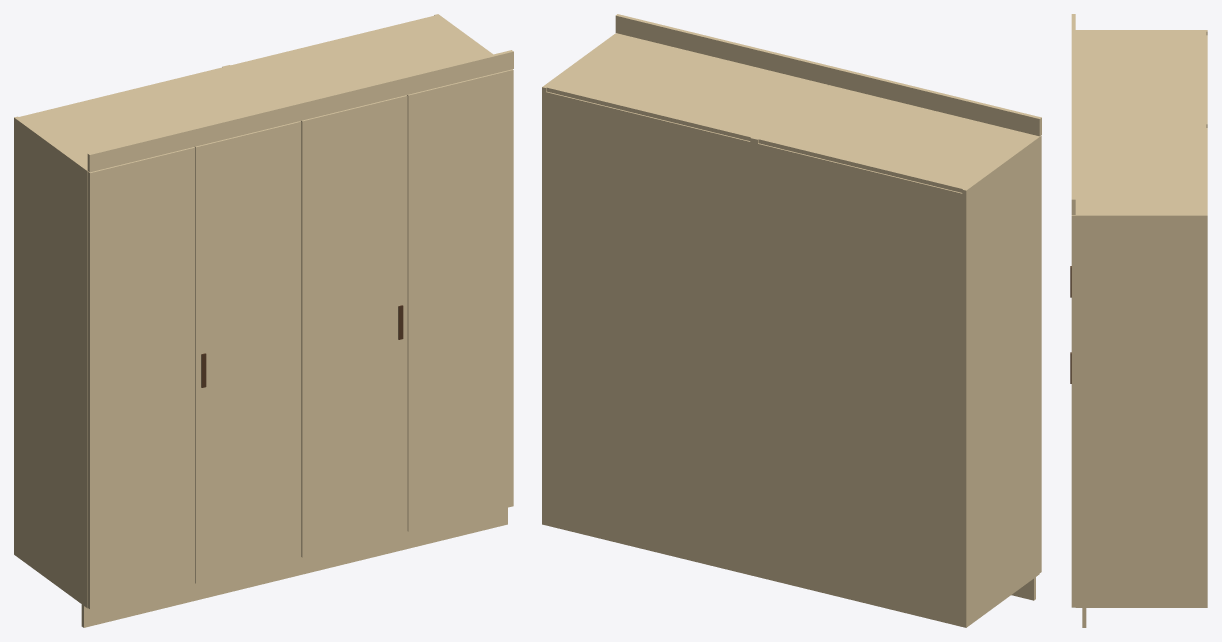
The model's file is birch-ply-wardrobe-chiswick.glb.
3 views of the same model, side by side, from view 1: azimuth 30°, elevation 25°; view 2: azimuth 150°, elevation 25°; view 3: azimuth 270°, elevation 25° (orthographic). The views are drawn at different scales.
Parts seen in each view (by area): view 1: Door 1 (hinged left), Door 4 (hinged right), Door 2 (hinged right), Door 3 (hinged left), Carcass left: Side left, Carcass left: Top, Carcass right: Top, Band over the doors, Plinth kick; view 2: Carcass left: Back, 6 mm, Carcass right: Back, 6 mm, Carcass left: Side left, Carcass left: Top, Carcass right: Top, Band over the doors, Carcass left: Side right, Carcass right: Side right, Carcass right: Side left, Door 1 (hinged left); view 3: Carcass right: Side right, Carcass right: Top, Carcass left: Top, Door 4 (hinged right), Band over the doors, Carcass right: Side left, Carcass left: Side left, Carcass left: Side right.
Boxes of the visible parts, x1,y1,x2,y2 form: Door 1 (hinged left): [88, 147, 195, 609]; Door 4 (hinged right): [407, 69, 513, 531]; Door 2 (hinged right): [195, 121, 301, 583]; Door 3 (hinged left): [301, 95, 407, 557]; Carcass left: Side left: [14, 116, 87, 608]; Carcass left: Top: [19, 67, 277, 167]; Carcass right: Top: [231, 15, 489, 105]; Band over the doors: [87, 50, 513, 172]; Plinth kick: [81, 507, 507, 627]; Carcass left: Back, 6 mm: [758, 143, 962, 626]; Carcass right: Back, 6 mm: [546, 91, 750, 574]; Carcass left: Side left: [962, 136, 1039, 627]; Carcass left: Top: [758, 86, 1035, 192]; Carcass right: Top: [546, 34, 823, 140]; Band over the doors: [615, 14, 1041, 136]; Carcass left: Side right: [754, 85, 830, 576]; Carcass right: Side right: [542, 33, 618, 525]; Carcass right: Side left: [750, 84, 827, 575]; Door 1 (hinged left): [935, 111, 1041, 572]; Carcass right: Side right: [1075, 214, 1207, 607]; Carcass right: Top: [1075, 124, 1206, 213]; Carcass left: Top: [1075, 31, 1206, 120]; Door 4 (hinged right): [1071, 215, 1075, 607]; Band over the doors: [1071, 14, 1075, 215]; Carcass right: Side left: [1075, 122, 1207, 127]; Carcass left: Side left: [1075, 30, 1207, 35]; Carcass left: Side right: [1075, 121, 1207, 122].
Bounding box in the file's own units: 2 × 2.15 × 0.624.
